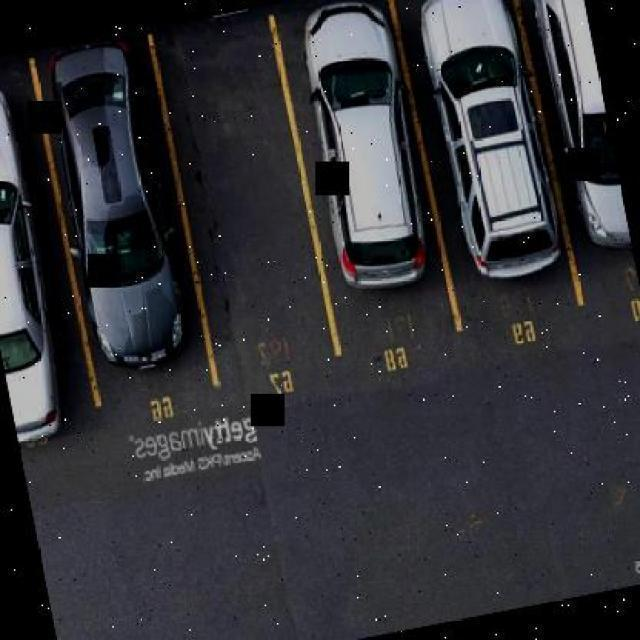space-empty: (155, 18, 331, 386)
space-occupied: (29, 31, 197, 385), (276, 0, 449, 318), (402, 0, 567, 302), (0, 52, 92, 450), (531, 0, 637, 285)
